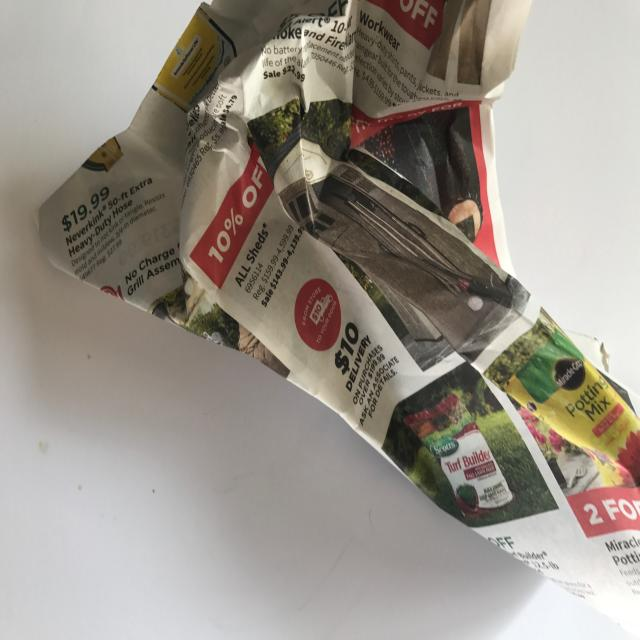paper: (24, 0, 639, 638)
